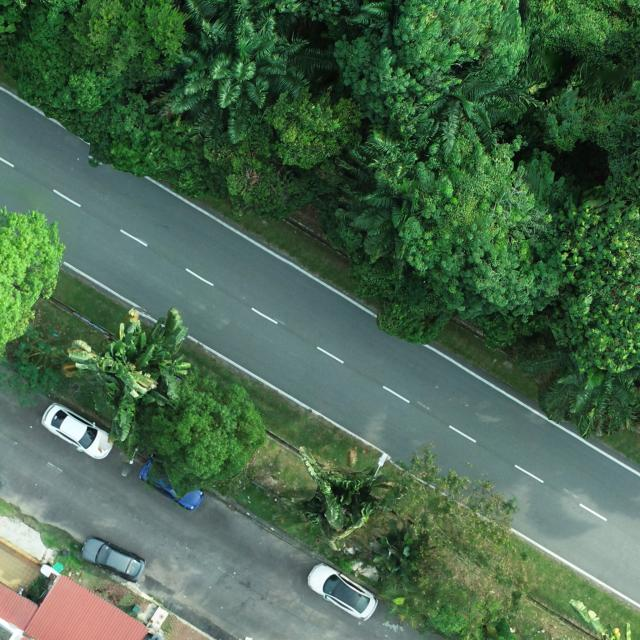tree: (400, 135, 582, 322), (370, 443, 530, 640), (150, 0, 340, 145), (334, 0, 528, 120), (3, 0, 193, 118), (201, 91, 366, 219), (547, 179, 640, 376), (63, 306, 194, 444), (140, 364, 268, 496), (56, 88, 204, 200), (406, 51, 549, 166), (335, 131, 453, 266), (289, 444, 409, 552), (514, 344, 640, 438), (0, 205, 68, 363), (372, 519, 435, 596)
